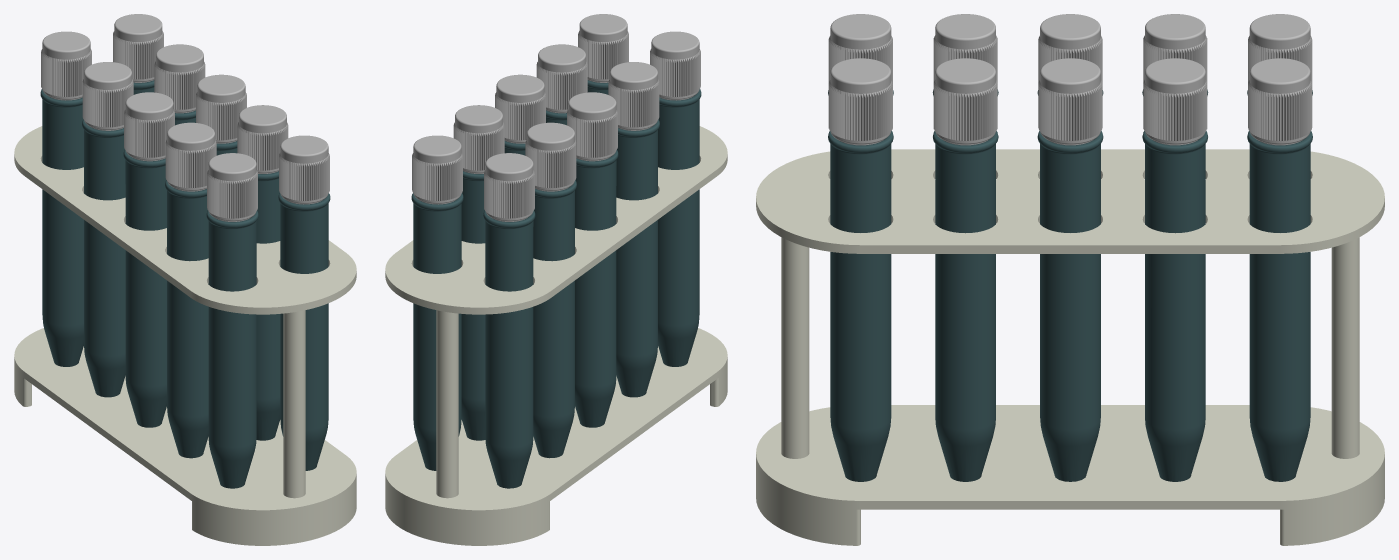
3 renders of one model, left to right at view 1: azimuth 30°, elevation 25°; view 2: azimuth 150°, elevation 25°; view 3: azimuth 270°, elevation 25°, orthographic. The views are drawn at different scales.
Visible parts, largest first — view 1: object_006, object_4, object_30, object_24, object_21, object_6, object_15, object_33, object_27, object_005, object_34, object_29 (+8 smaller); view 2: object_006, object_4, object_6, object_15, object_21, object_30, object_24, object_9, object_12, object_007, object_10, object_5 (+8 smaller); view 3: object_006, object_4, object_33, object_9, object_12, object_18, object_27, object_007, object_005, object_10, object_34, object_11 (+7 smaller).
Boxes of the visible parts, left/top/right/bottom form: object_006: left=14, top=328, right=356, bottom=545; object_4: left=14, top=126, right=356, bottom=314; object_30: left=206, top=210, right=258, bottom=488; object_24: left=165, top=180, right=208, bottom=458; object_21: left=123, top=150, right=166, bottom=427; object_6: left=40, top=89, right=83, bottom=366; object_15: left=82, top=119, right=125, bottom=397; object_33: left=278, top=193, right=330, bottom=470; object_27: left=256, top=171, right=280, bottom=440; object_005: left=283, top=310, right=305, bottom=498; object_34: left=279, top=135, right=329, bottom=204; object_29: left=207, top=153, right=257, bottom=221; object_006: left=385, top=328, right=727, bottom=545; object_4: left=385, top=126, right=727, bottom=314; object_6: left=483, top=210, right=535, bottom=488; object_15: left=533, top=180, right=576, bottom=458; object_21: left=575, top=150, right=618, bottom=427; object_30: left=658, top=89, right=701, bottom=366; object_24: left=616, top=119, right=659, bottom=397; object_9: left=411, top=193, right=463, bottom=470; object_12: left=461, top=171, right=485, bottom=440; object_007: left=436, top=310, right=458, bottom=498; object_10: left=412, top=135, right=462, bottom=204; object_5: left=484, top=153, right=534, bottom=221; object_006: left=756, top=405, right=1384, bottom=545; object_4: left=756, top=149, right=1384, bottom=253; object_33: left=828, top=131, right=893, bottom=481; object_9: left=1247, top=131, right=1312, bottom=481; object_12: left=1142, top=131, right=1207, bottom=481; object_18: left=1037, top=131, right=1103, bottom=481; object_27: left=933, top=131, right=998, bottom=481; object_007: left=1331, top=237, right=1359, bottom=458; object_005: left=781, top=237, right=809, bottom=458; object_10: left=1248, top=58, right=1312, bottom=145; object_34: left=828, top=58, right=892, bottom=145; object_11: left=1143, top=58, right=1207, bottom=145.
Size of the model in its own units: 5.22 by 11.43 by 14.48.
